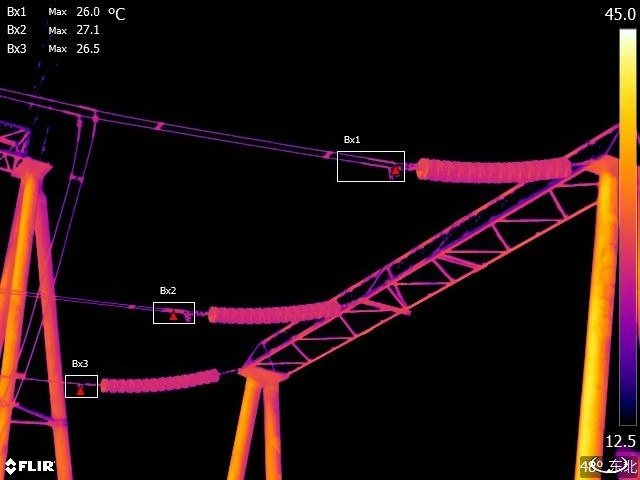clamp: (70, 101, 103, 133), (381, 153, 408, 180), (175, 305, 194, 324)
insulator: (412, 141, 573, 193), (93, 366, 221, 398), (204, 296, 342, 324)
